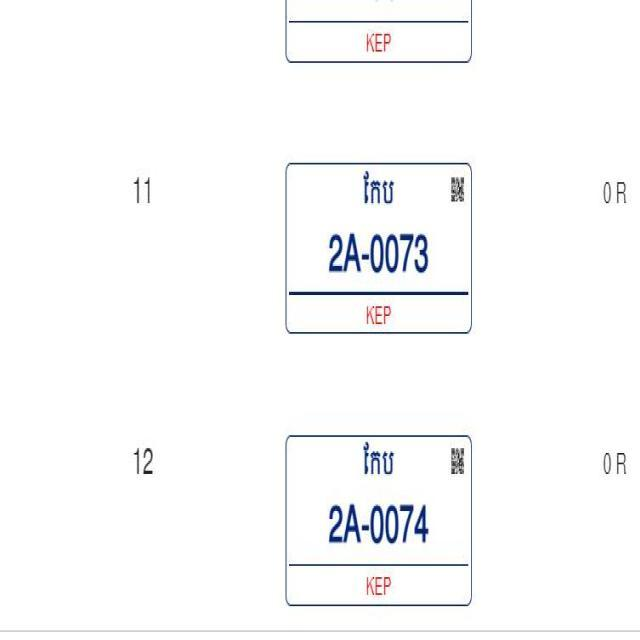Kep: (364, 168, 399, 216), (361, 440, 394, 482)
